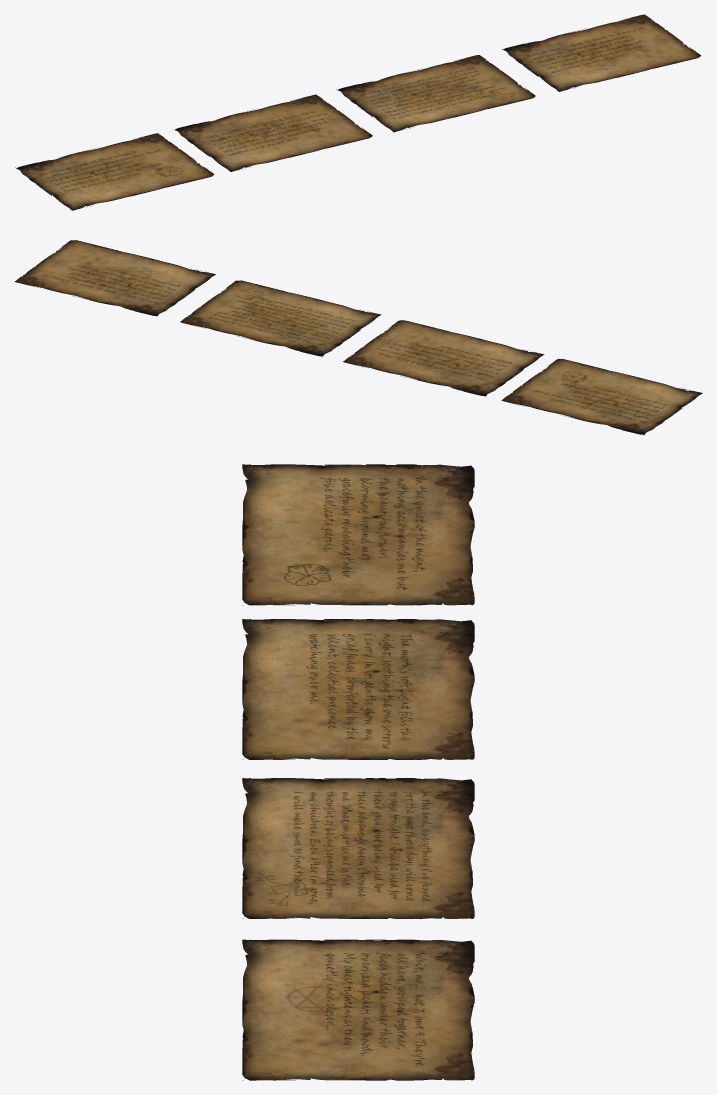
The model's file is kertas clue.fbx.
The picture shows the model from 3 angles, top to bottom: view 1: azimuth 30°, elevation 25°; view 2: azimuth 150°, elevation 25°; view 3: azimuth 270°, elevation 25°; orthographic projection. The views are drawn at different scales.
Parts seen in each view (by area): view 1: Plane.003, Plane, Plane.001, Plane.002; view 2: Plane.001, Plane.002, Plane, Plane.003; view 3: Plane.003, Plane.001, Plane, Plane.002.
Part boxes in pixels (x1=…): Plane.003: x1=501, y1=14, x2=700, y2=91; Plane: x1=172, y1=94, x2=372, y2=171; Plane.001: x1=15, y1=133, x2=214, y2=210; Plane.002: x1=336, y1=55, x2=535, y2=132; Plane.001: x1=501, y1=358, x2=702, y2=434; Plane.002: x1=180, y1=280, x2=381, y2=357; Plane: x1=343, y1=320, x2=544, y2=396; Plane.003: x1=15, y1=240, x2=215, y2=316; Plane.003: x1=242, y1=939, x2=474, y2=1080; Plane.001: x1=242, y1=464, x2=474, y2=605; Plane: x1=242, y1=619, x2=474, y2=759; Plane.002: x1=242, y1=778, x2=474, y2=918.
Bounding box in the file's own units: 1253 × 0.349 × 200.
